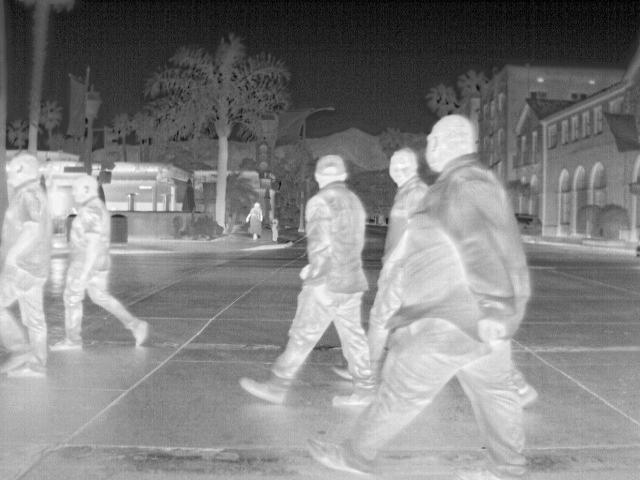car: (515, 211, 545, 244)
person: (310, 113, 532, 477), (239, 152, 379, 407), (49, 176, 152, 352), (1, 153, 52, 379), (382, 144, 429, 269), (243, 201, 264, 241)
